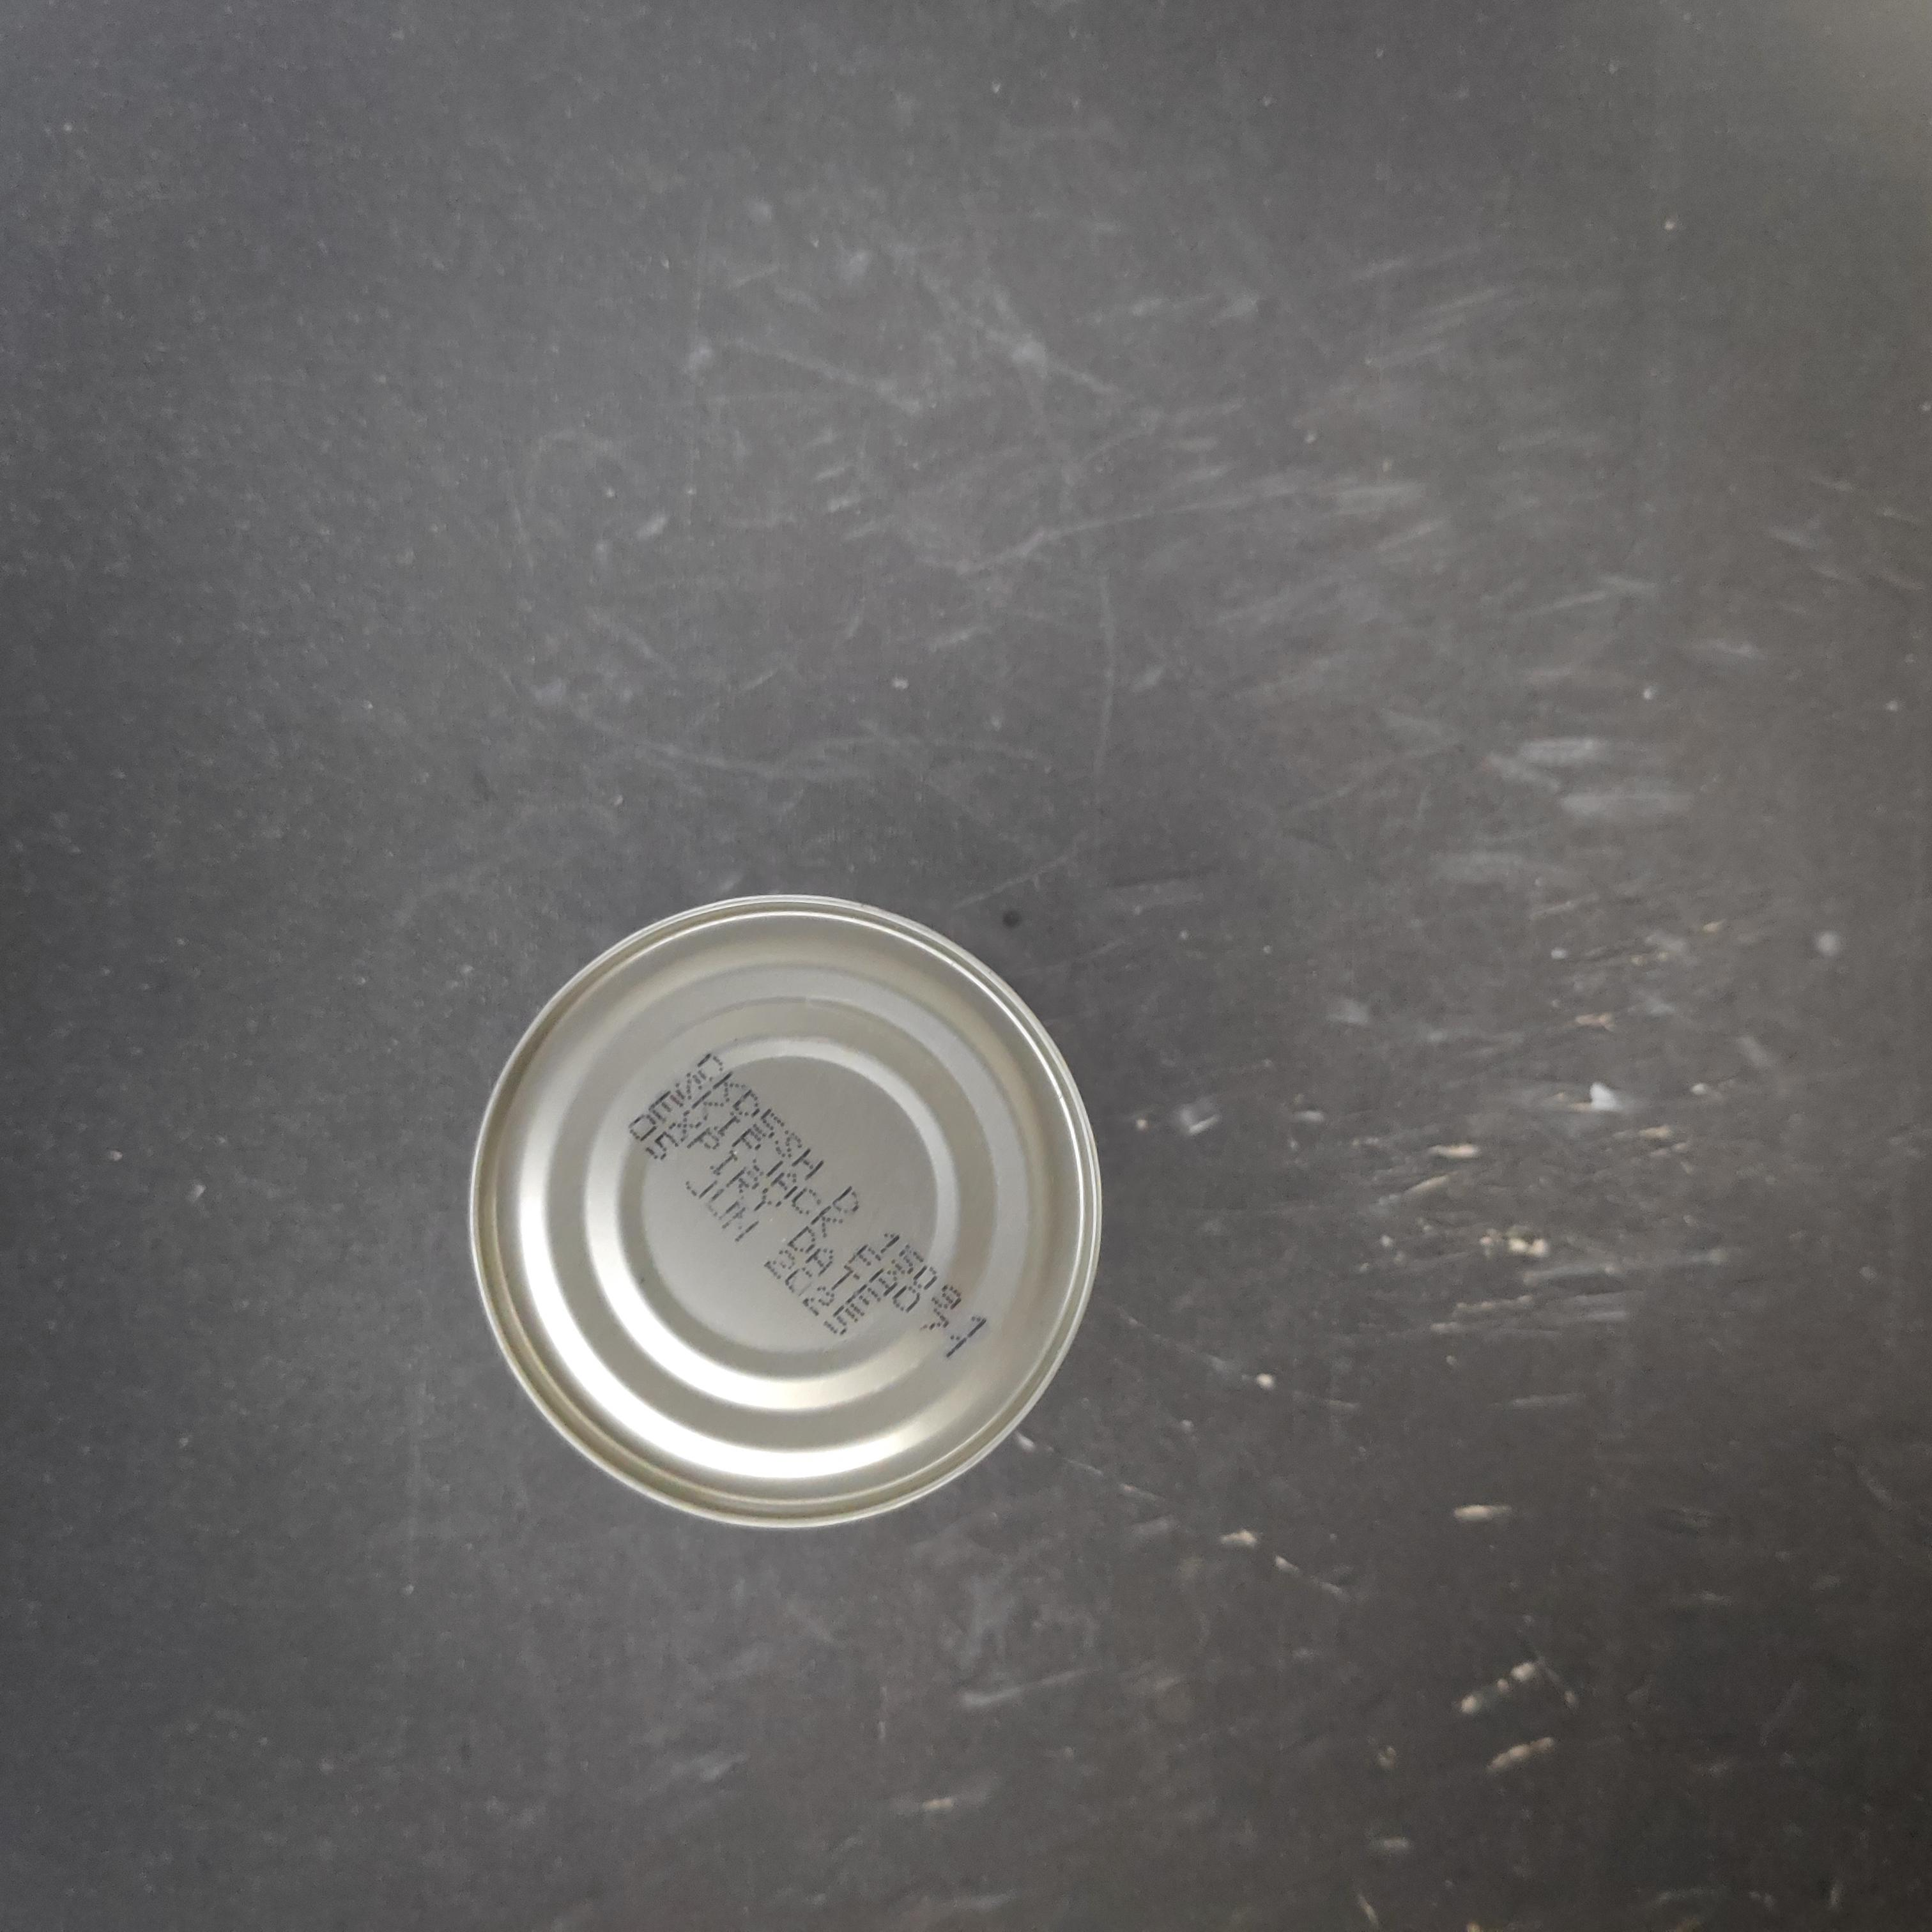No defect: (828, 398, 1468, 1040)
